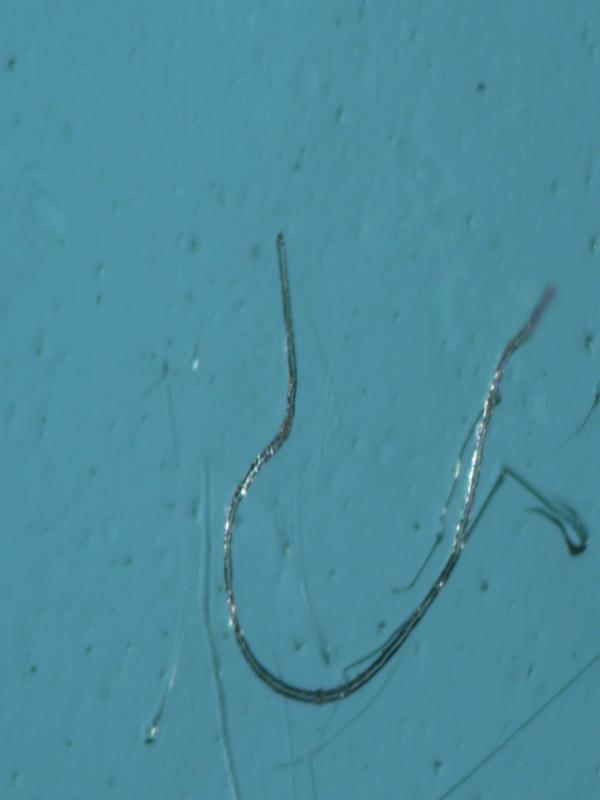microplastic: (221, 229, 589, 707)
